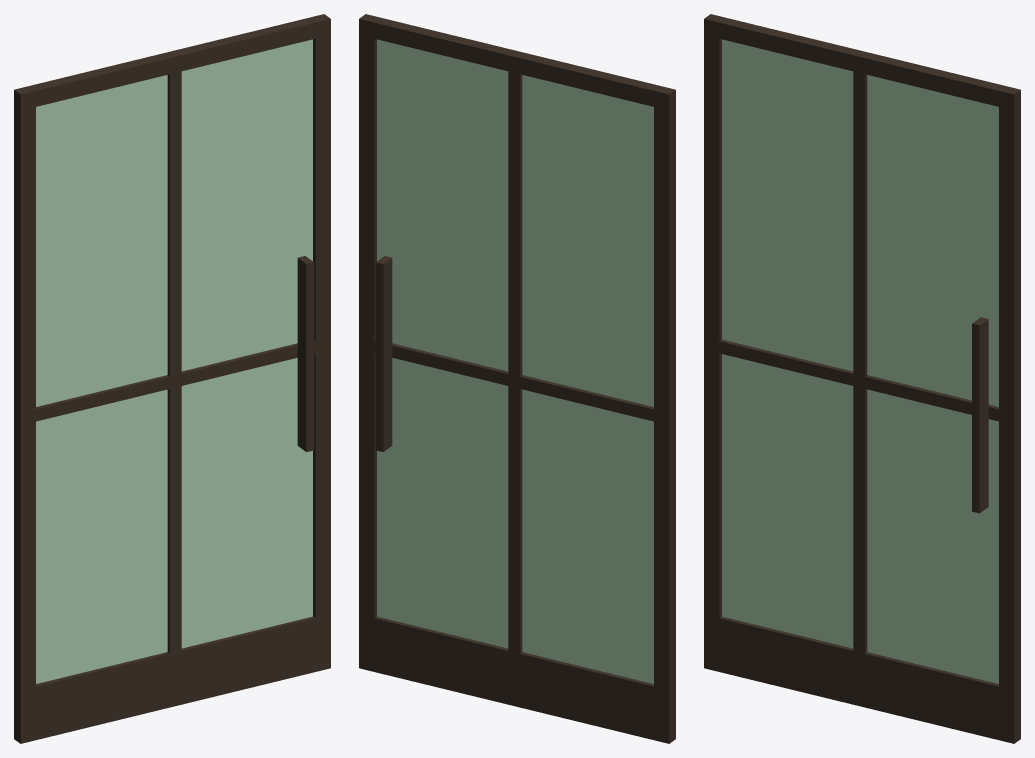
Rendered from kw_727_entrance_leaf.glb.
3 renders of one model, left to right at view 1: azimuth 30°, elevation 25°; view 2: azimuth 150°, elevation 25°; view 3: azimuth 330°, elevation 25°, orthographic.
Parts seen in each view (by area): view 1: DoorGlass, DoorLeaf; view 2: DoorGlass, DoorLeaf; view 3: DoorGlass, DoorLeaf.
Part boxes in pixels (x1=…): DoorGlass: x1=36, y1=39, x2=312, y2=683; DoorLeaf: x1=14, y1=14, x2=330, y2=743; DoorGlass: x1=377, y1=39, x2=653, y2=683; DoorLeaf: x1=359, y1=14, x2=675, y2=743; DoorGlass: x1=722, y1=39, x2=998, y2=683; DoorLeaf: x1=704, y1=14, x2=1020, y2=743.
Size of the model in its own units: 1.21 by 2.42 by 0.165.
